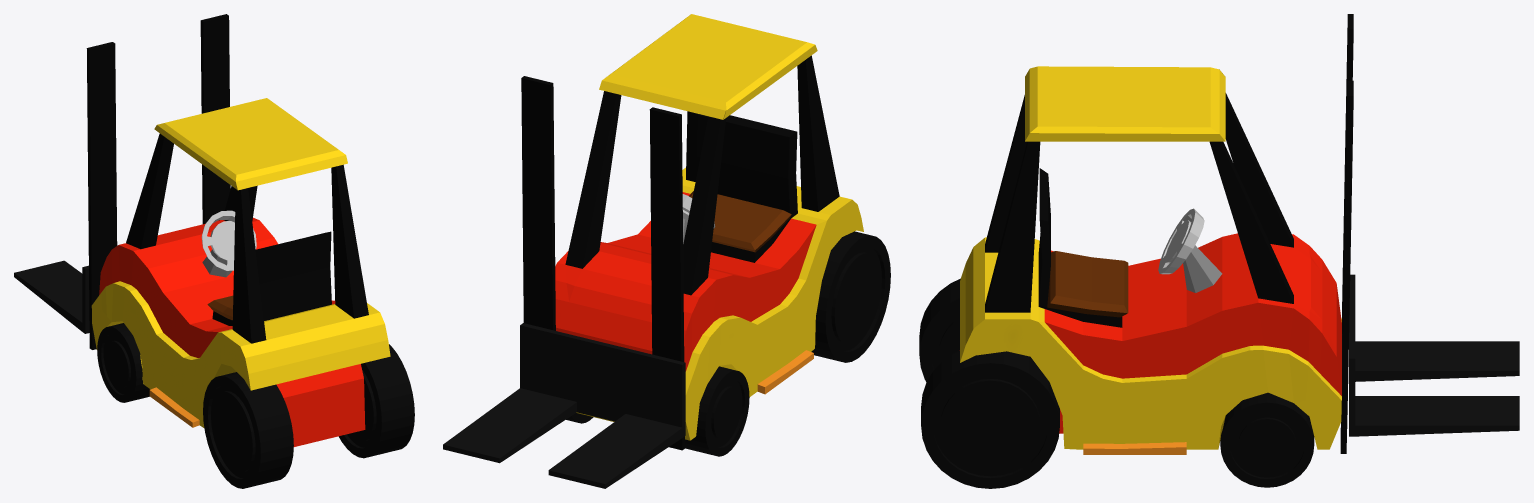
File: ForkliftGame_Forklift_model2.obj
3 renders of one model, left to right at view 1: azimuth 30°, elevation 25°; view 2: azimuth 150°, elevation 25°; view 3: azimuth 270°, elevation 25°, orthographic. The views are drawn at different scales.
Parts seen in each view (by area): view 1: ForkBody, Cylinder.001, Cylinder, ForkLifter, Cylinder.003, Cylinder.004; view 2: ForkBody, ForkLifter, Cylinder.001, Cylinder.003; view 3: ForkBody, Cylinder, ForkLifter, Cylinder.002, Cylinder.001, Cylinder.004.
Boxes of the visible parts, x1,y1,x2,y2 form: ForkBody: [86, 14, 390, 446]; Cylinder.001: [203, 372, 293, 488]; Cylinder: [338, 344, 414, 458]; ForkLifter: [14, 260, 89, 333]; Cylinder.003: [97, 323, 150, 402]; Cylinder.004: [201, 210, 256, 270]; ForkBody: [521, 14, 863, 450]; ForkLifter: [443, 323, 685, 488]; Cylinder.001: [811, 231, 890, 362]; Cylinder.003: [685, 366, 749, 456]; ForkBody: [959, 14, 1353, 454]; Cylinder: [921, 350, 1059, 488]; ForkLifter: [1349, 274, 1519, 436]; Cylinder.002: [1220, 392, 1314, 487]; Cylinder.001: [919, 278, 960, 381]; Cylinder.004: [1158, 208, 1204, 274].
Bounding box in the file's own units: 2.99 × 5.97 × 8.35.
